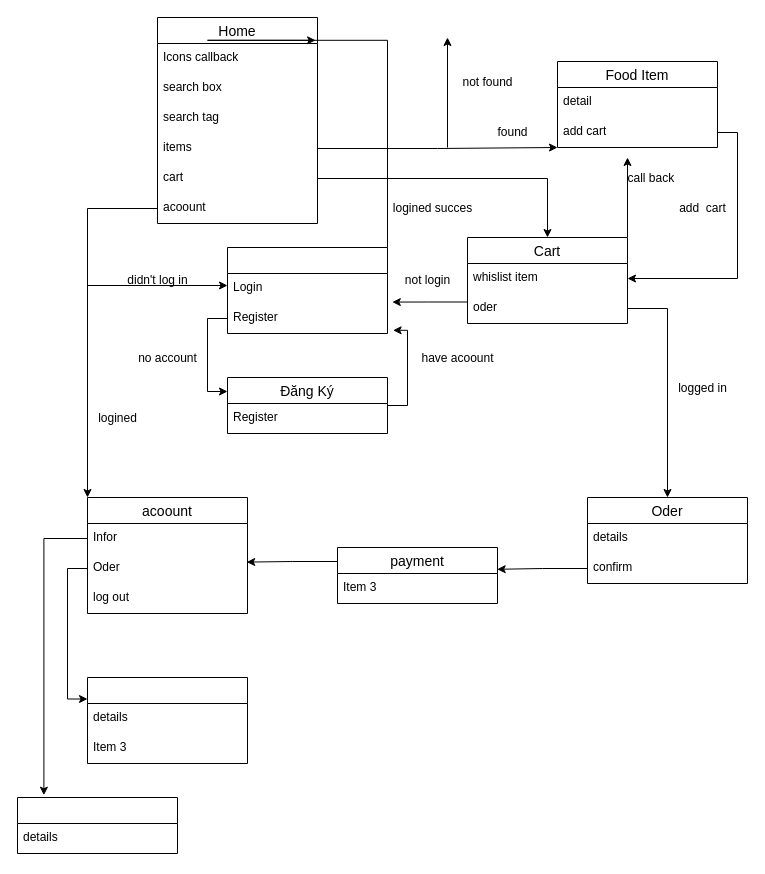
Some shapes in this 765 by 874 pixel diagram are drawn without their labels. Here are the shapes that lost their labels. From the top down, the box of each, then its label:
(226, 246, 388, 334): Đăng nhập
(86, 676, 248, 764): oderd
(16, 796, 178, 854): Change Info
